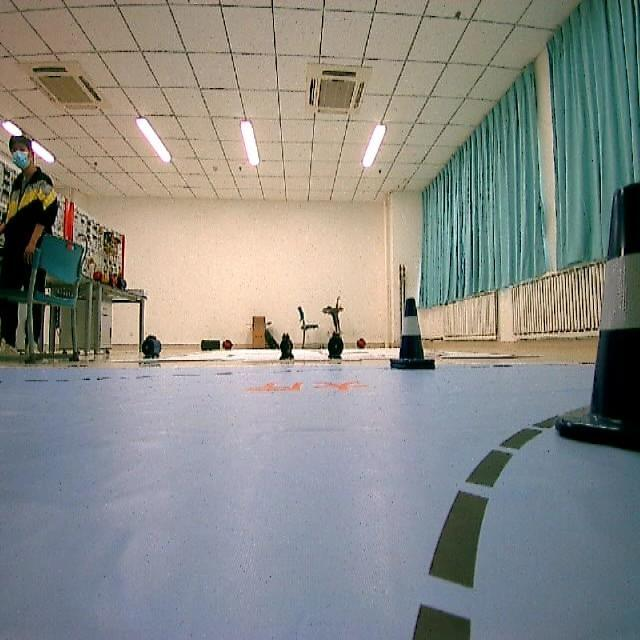obstacle: (548, 183, 640, 477), (382, 294, 445, 382)
